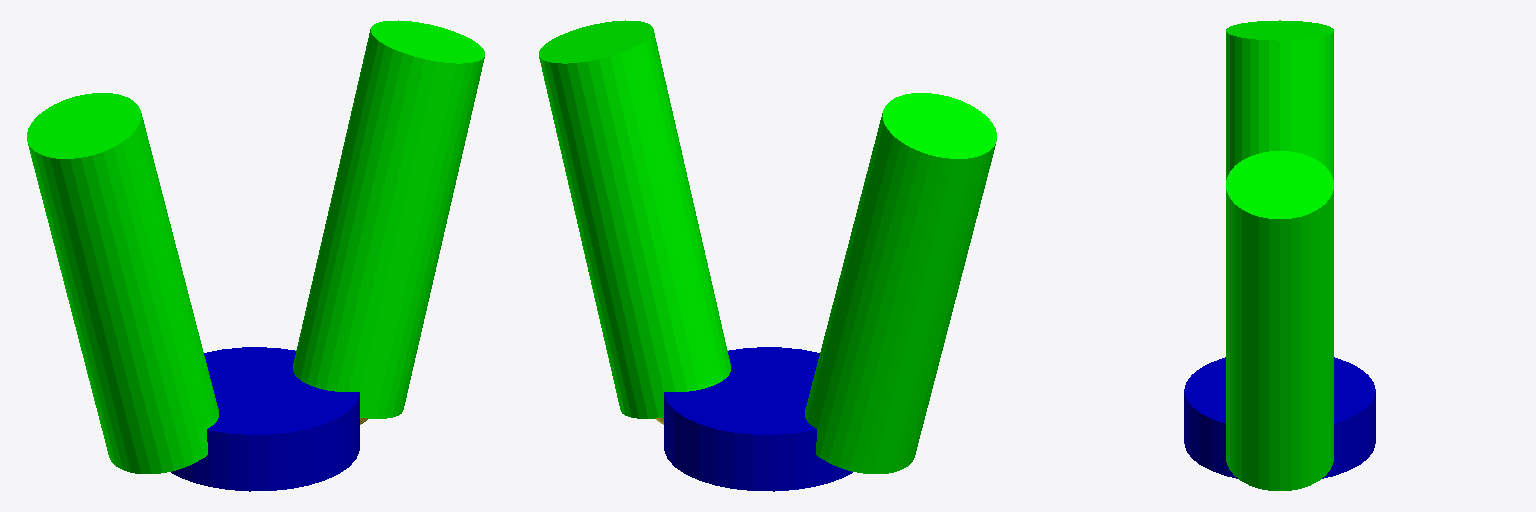
The robot description file, URDF, robot "gripper_2f_1j":
<?xml version='1.0' encoding='UTF-8'?>
<robot name="gripper_2f_1j">
  <link name="palm">
    <inertial>
      <origin xyz="0.0 0.0 0.0" rpy="0.0 -0.0 0.0"/>
      <mass value="1.0"/>
      <inertia ixx="1.0" ixy="0.0" ixz="0.0" iyy="1.0" iyz="0.0" izz="1.0"/>
    </inertial>
    <visual>
      <geometry>
        <cylinder radius="0.05" length="0.03"/>
      </geometry>
      <material name="blue"/>
      <origin xyz="0.0 0.0 0.0" rpy="0.0 -0.0 0.0"/>
    </visual>
    <collision>
      <geometry>
        <cylinder radius="0.05" length="0.03"/>
      </geometry>
      <origin xyz="0.0 0.0 0.0" rpy="0.0 0.0 0.0"/>
    </collision>
  </link>
  <link name="f11">
    <inertial>
      <origin xyz="0.0 0.0 0.0" rpy="0.0 -0.0 0.0"/>
      <mass value="1.0"/>
      <inertia ixx="1.0" ixy="0.0" ixz="0.0" iyy="1.0" iyz="0.0" izz="1.0"/>
    </inertial>
    <visual>
      <geometry>
        <cylinder radius="0.028314886575929087" length="0.18357832559894022"/>
      </geometry>
      <material name="green"/>
      <origin xyz="0.0 0.0 0.09178916279947011" rpy="0.0 -0.0 0.0"/>
    </visual>
    <collision>
      <geometry>
        <cylinder radius="0.028314886575929087" length="0.18357832559894022"/>
      </geometry>
      <origin xyz="0.0 0.0 0.05" rpy="0.0 0.0 0.0"/>
    </collision>
  </link>
  <link name="f21">
    <inertial>
      <origin xyz="0.0 0.0 0.0" rpy="0.0 -0.0 0.0"/>
      <mass value="1.0"/>
      <inertia ixx="1.0" ixy="0.0" ixz="0.0" iyy="1.0" iyz="0.0" izz="1.0"/>
    </inertial>
    <visual>
      <geometry>
        <cylinder radius="0.028314886575929087" length="0.18357832559894022"/>
      </geometry>
      <material name="green"/>
      <origin xyz="0.0 0.0 0.09178916279947011" rpy="0.0 -0.0 0.0"/>
    </visual>
    <collision>
      <geometry>
        <cylinder radius="0.028314886575929087" length="0.18357832559894022"/>
      </geometry>
      <origin xyz="0.0 0.0 0.05" rpy="0.0 0.0 0.0"/>
    </collision>
  </link>
  <link name="f11_base">
    <inertial>
      <origin xyz="0.0 0.0 0.0" rpy="0.0 -0.0 0.0"/>
      <mass value="1.0"/>
      <inertia ixx="1.0" ixy="0.0" ixz="0.0" iyy="1.0" iyz="0.0" izz="1.0"/>
    </inertial>
    <visual>
      <geometry>
        <sphere radius="0.015"/>
      </geometry>
      <origin xyz="0.0 0.0 0.0" rpy="0.0 -0.0 0.0"/>
    </visual>
  </link>
  <link name="f21_base">
    <inertial>
      <origin xyz="0.0 0.0 0.0" rpy="0.0 -0.0 0.0"/>
      <mass value="1.0"/>
      <inertia ixx="1.0" ixy="0.0" ixz="0.0" iyy="1.0" iyz="0.0" izz="1.0"/>
    </inertial>
    <visual>
      <geometry>
        <sphere radius="0.015"/>
      </geometry>
      <origin xyz="0.0 0.0 0.0" rpy="0.0 -0.0 0.0"/>
    </visual>
  </link>
  <joint name="f11_joint" type="revolute">
    <dynamics damping="100.0" friction="1.0"/>
    <limit effort="30.0" velocity="2.0" lower="-0.6" upper="0.25"/>
    <parent link="f11_base"/>
    <child link="f11"/>
    <axis xyz="0. 1. 0."/>
    <origin xyz="0.0 0.0 0.0" rpy="0.0 0.25 0.0"/>
  </joint>
  <joint name="f21_joint" type="revolute">
    <dynamics damping="100.0" friction="1.0"/>
    <limit effort="30.0" velocity="2.0" lower="-0.6" upper="0.25"/>
    <parent link="f21_base"/>
    <child link="f21"/>
    <axis xyz=" 0. -1.  0."/>
    <origin xyz="0.0 0.0 0.0" rpy="0.0 -0.25 0.0"/>
  </joint>
  <joint name="f11_base_joint" type="fixed">
    <parent link="palm"/>
    <child link="f11_base"/>
    <axis xyz="1. 0. 0."/>
    <origin xyz="0.05 0.0 0.0" rpy="0.0 0.0 0.0"/>
  </joint>
  <joint name="f21_base_joint" type="fixed">
    <parent link="palm"/>
    <child link="f21_base"/>
    <axis xyz="1. 0. 0."/>
    <origin xyz="-0.05 -0.0 0.0" rpy="0.0 0.0 0.0"/>
  </joint>
  <material name="blue">
    <color rgba="0.  0.  0.8 1. "/>
  </material>
  <material name="green">
    <color rgba="0. 1. 0. 1."/>
  </material>
</robot>

--- Render facts (derived) ---
3 views of the same robot in one strip: view 1: azimuth 30°, elevation 25°; view 2: azimuth 150°, elevation 25°; view 3: azimuth 270°, elevation 25° (orthographic).
Model gripper_2f_1j with 5 links and 4 joints (2 revolute, 2 fixed), rooted at palm, posed every joint at zero.
Visible links, largest first — view 1: f11, f21, palm; view 2: f11, f21, palm; view 3: f11, f21, palm.
Boxes of the visible links, x1=… form: f11: x1=293, y1=20, x2=484, y2=418; f21: x1=27, y1=93, x2=218, y2=473; palm: x1=171, y1=347, x2=359, y2=491; f11: x1=539, y1=20, x2=730, y2=418; f21: x1=805, y1=93, x2=996, y2=473; palm: x1=664, y1=347, x2=852, y2=491; f11: x1=1226, y1=151, x2=1333, y2=490; f21: x1=1226, y1=20, x2=1333, y2=179; palm: x1=1184, y1=357, x2=1375, y2=478.
Size in the robot's own frame: 0.2457 by 0.1 by 0.1999 metres.
Geometry: primitives only (box / cylinder / sphere), no mesh files.